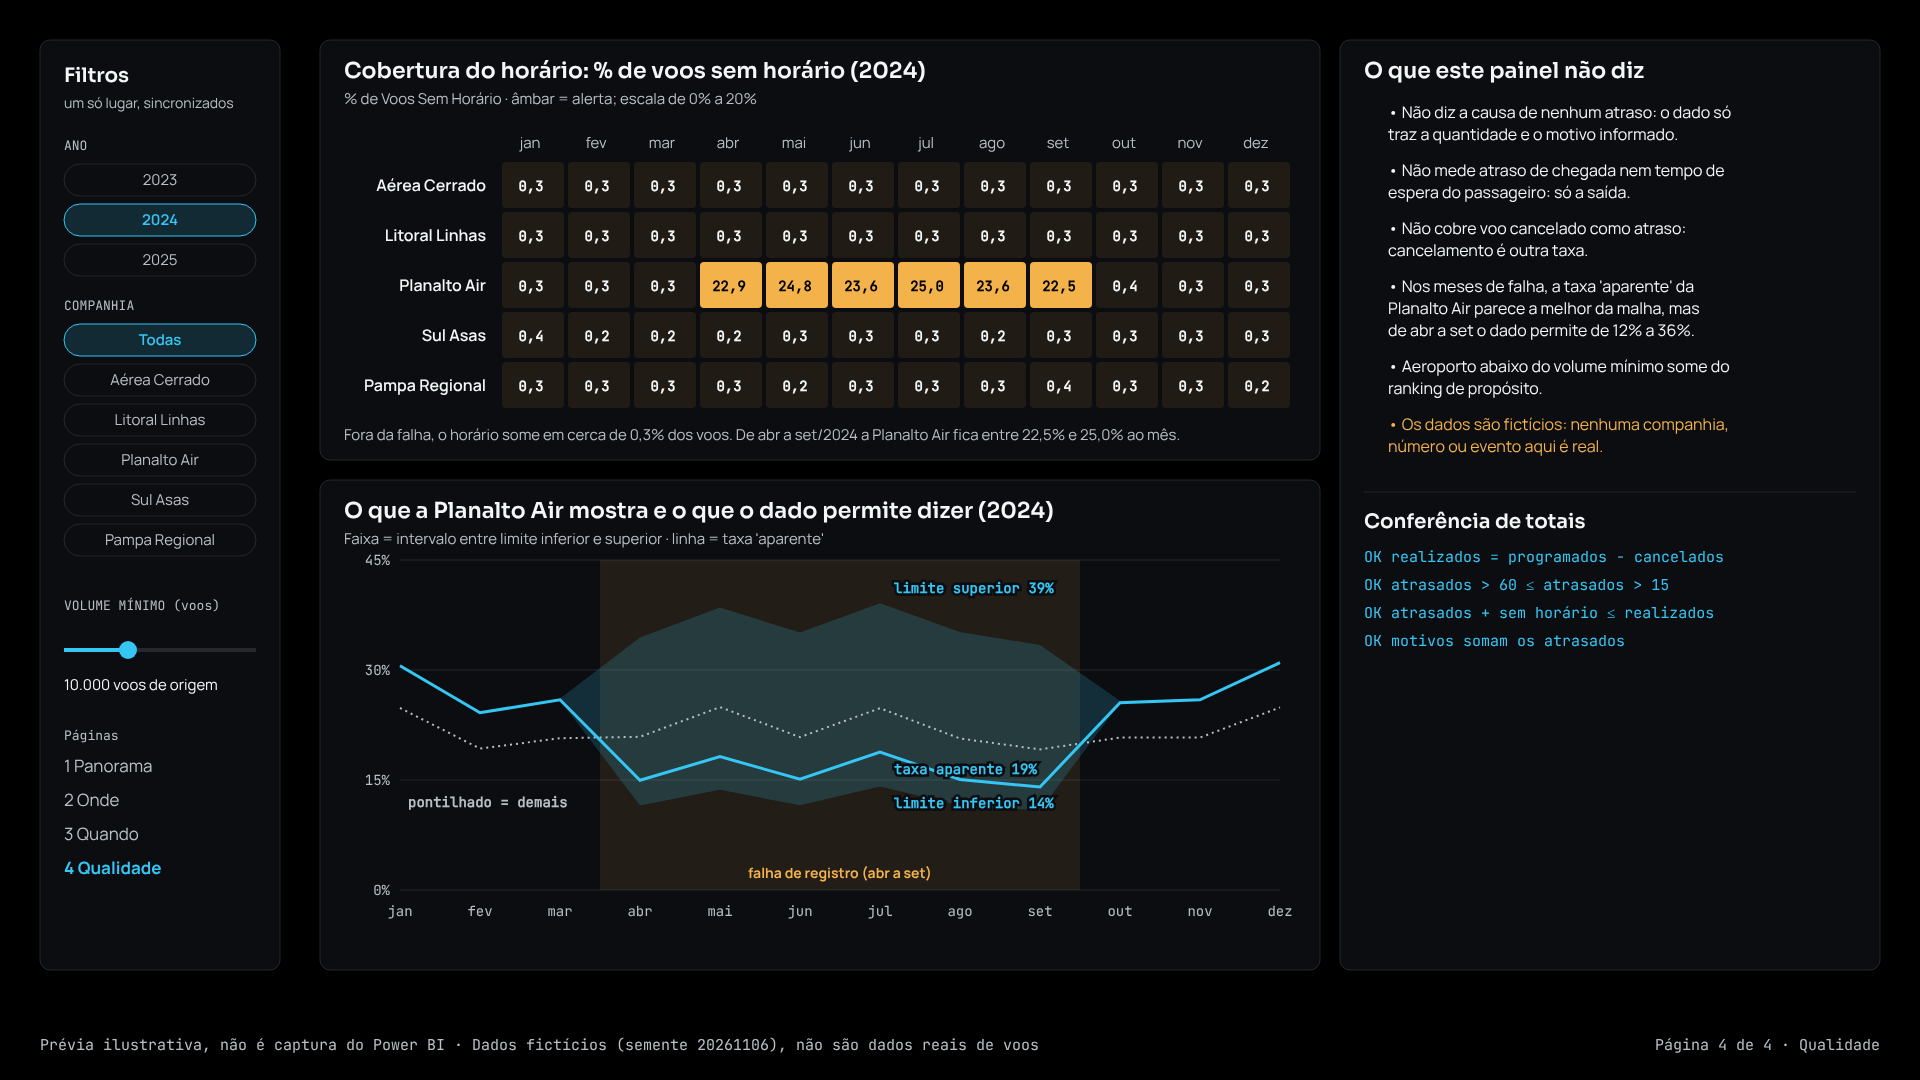

The page's visual inventory and layout, read from the dashboard file:
{"tool":"powerbi","page":{"name":"Qualidade","canvas":[1280,720],"ordinal":3},"visuals":[{"type":"textbox","box":[16,10,168,68],"z":1},{"type":"textbox","box":[200,8,860,74],"z":2},{"type":"textbox","box":[1076,10,188,68],"z":3},{"type":"slicer","title":"Ano","fields":{"Values":["dim_calendario.ano"]},"box":[16,84,168,104],"z":9},{"type":"slicer","title":"Companhia","fields":{"Values":["dim_companhia.companhia"]},"box":[16,198,168,200],"z":10},{"type":"slicer","title":"Volume mínimo (voos)","fields":{"Values":["Param Volume Minimo.Value"]},"box":[16,408,168,96],"z":11},{"type":"barChart","title":"Voos sem horário registrado, por companhia (2024)","fields":{"Category":["dim_companhia.companhia"],"Y":["_Medidas.% de Voos Sem Horário"]},"box":[200,84,440,380],"z":20},{"type":"lineChart","title":"Planalto Air em 2024: o dado só permite uma faixa","fields":{"Category":["dim_calendario.mes_ano"],"Y":["_Medidas.Taxa de Atraso (limite inferior)","_Medidas.Taxa de Atraso 15","_Medidas.Taxa de Atraso (limite superior)"]},"box":[656,84,608,380],"z":21},{"type":"textbox","box":[200,476,1064,206],"z":22}]}

Visuals, with their boxes in screenshot pixels (x1, y1, x2, y2), scaled from the page's 1280x720 canvas onto the 1920x1080 screenshot:
textbox: 24:15:276:117
textbox: 300:12:1590:123
textbox: 1614:15:1896:117
"Ano" slicer: 24:126:276:282
"Companhia" slicer: 24:297:276:597
"Volume mínimo (voos)" slicer: 24:612:276:756
"Voos sem horário registrado, por companhia (2024)" barChart: 300:126:960:696
"Planalto Air em 2024: o dado só permite uma faixa" lineChart: 984:126:1896:696
textbox: 300:714:1896:1023
